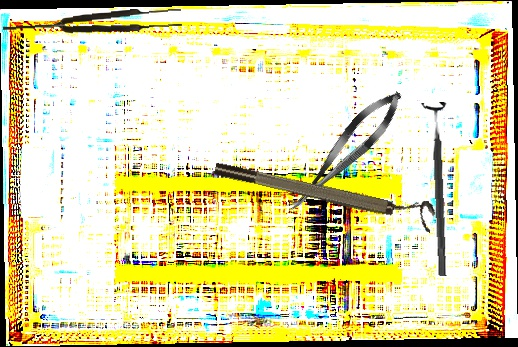Fixation Ring: (212, 149, 438, 233), (419, 101, 457, 277)
Micro Scissor: (278, 82, 412, 222)
Tissue Forceps: (2, 6, 182, 39)
